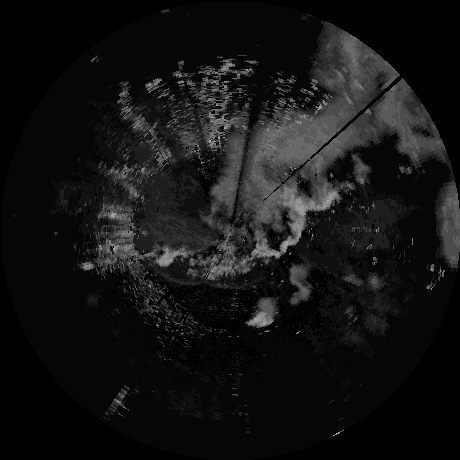frontgust: (154, 265, 199, 285), (205, 277, 245, 288)
